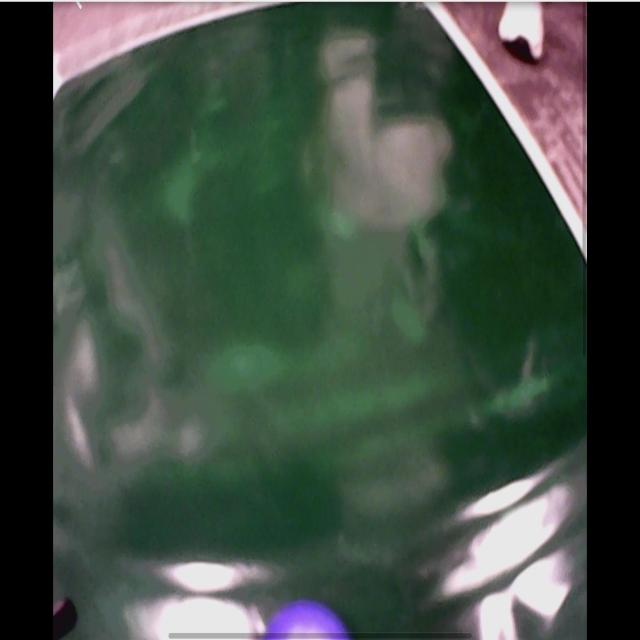ball: (262, 603, 350, 639)
